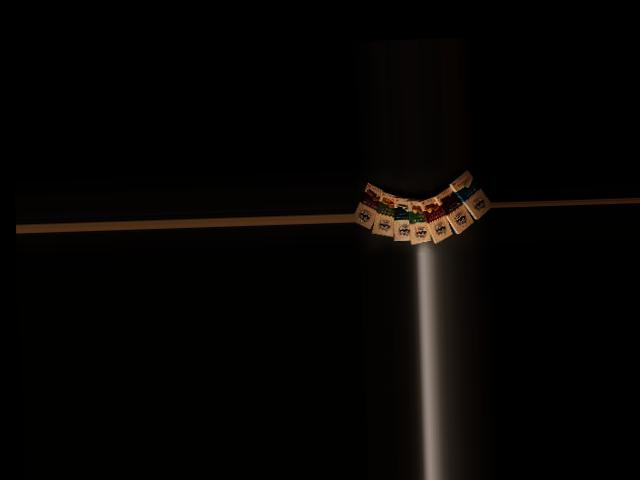chocolate: (448, 165, 490, 222)
